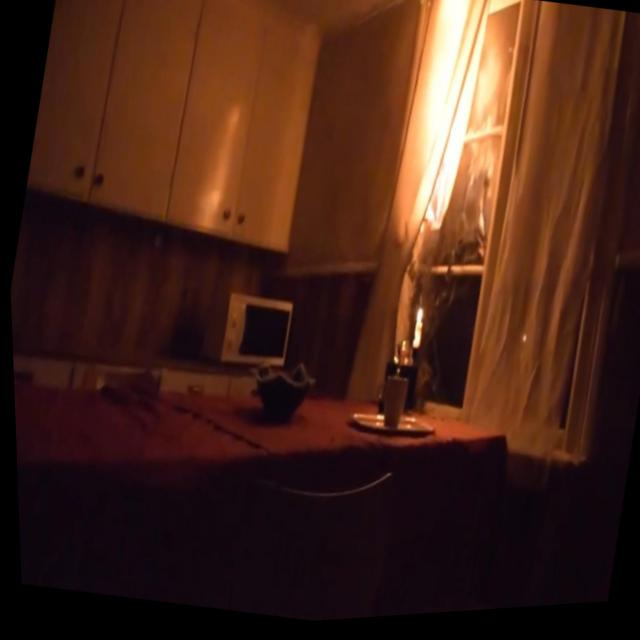fire: (389, 0, 506, 243), (412, 308, 424, 328)
